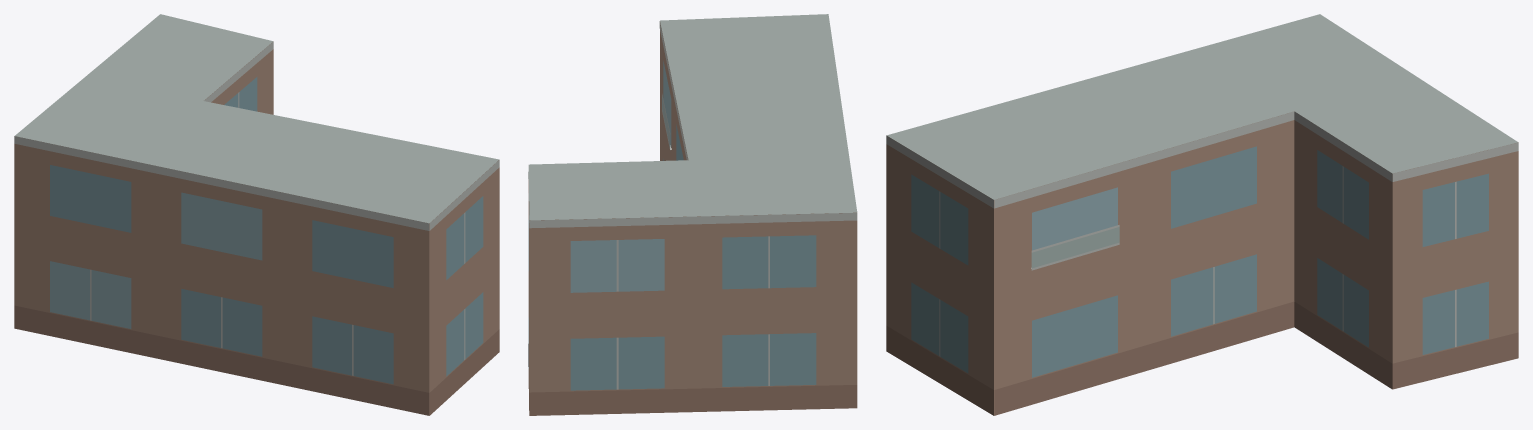
Rendered from survey-upis-32766582.glb.
The picture shows the model from 3 angles, left to right: view 1: azimuth 30°, elevation 25°; view 2: azimuth 150°, elevation 25°; view 3: azimuth 270°, elevation 25°; orthographic projection. The views are drawn at different scales.
Visible parts, largest first — view 1: survey-upis-32766582.tmp; view 2: survey-upis-32766582.tmp; view 3: survey-upis-32766582.tmp.
Part boxes in pixels (<box>): survey-upis-32766582.tmp: <box>14,14,499,415</box>; survey-upis-32766582.tmp: <box>528,14,857,415</box>; survey-upis-32766582.tmp: <box>886,14,1518,415</box>.
Size of the model in its own units: 11.28 by 6.1 by 16.2.
